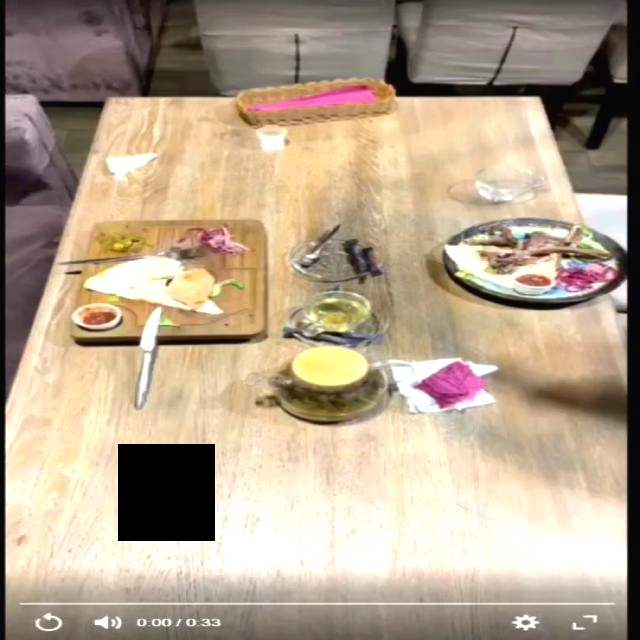meat: (62, 212, 273, 352), (445, 194, 640, 322)
tea: (262, 352, 405, 422)
